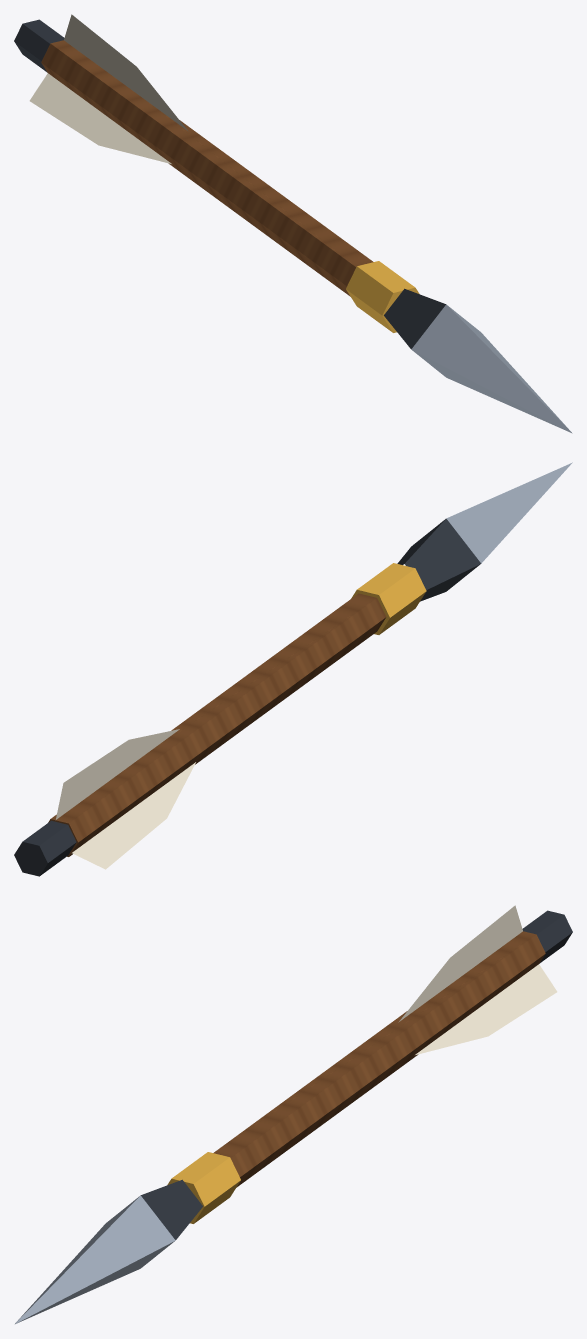
Rendered from fight-and-flight-v2.7-quarrel.glb.
3 views of the same model, one above another, from view 1: azimuth 30°, elevation 25°; view 2: azimuth 150°, elevation 25°; view 3: azimuth 330°, elevation 25° (orthographic).
Visible parts, largest first — view 1: Quarrel_Projectile_Root; view 2: Quarrel_Projectile_Root; view 3: Quarrel_Projectile_Root.
Boxes of the visible parts, left/top/right/bottom form: Quarrel_Projectile_Root: left=14, top=14, right=572, bottom=433; Quarrel_Projectile_Root: left=14, top=462, right=572, bottom=876; Quarrel_Projectile_Root: left=14, top=905, right=572, bottom=1324.
Size of the model in its own units: 0.0373 by 0.036 by 0.415.
Materials: 1 (1 with a texture image).
